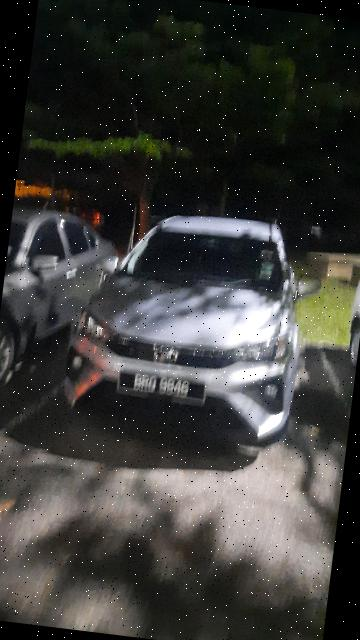License_Plate: (117, 368, 211, 409)
car: (62, 196, 328, 456)
